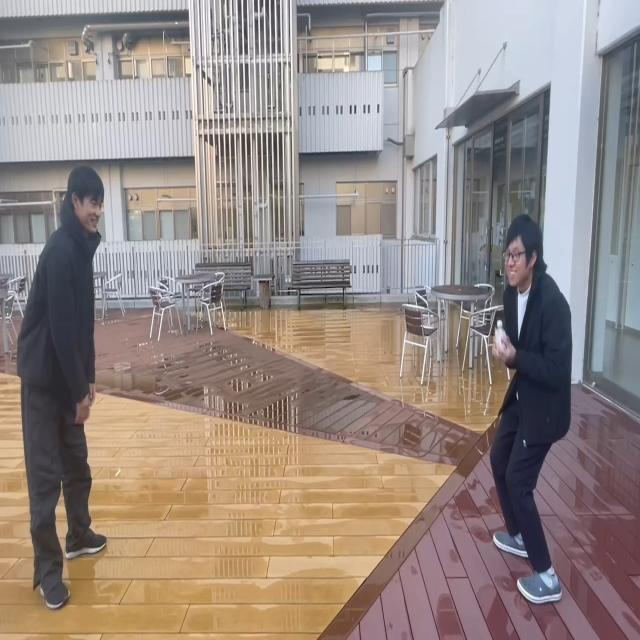bottle: (495, 319, 505, 350)
